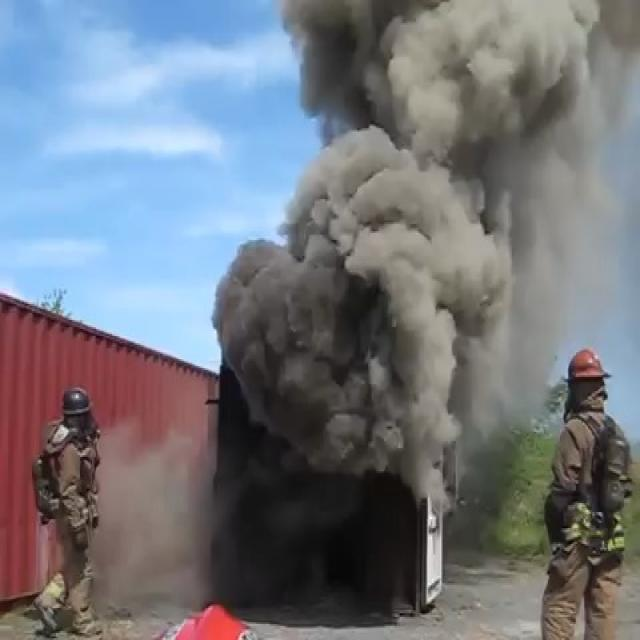Smoke: (226, 18, 600, 482)
